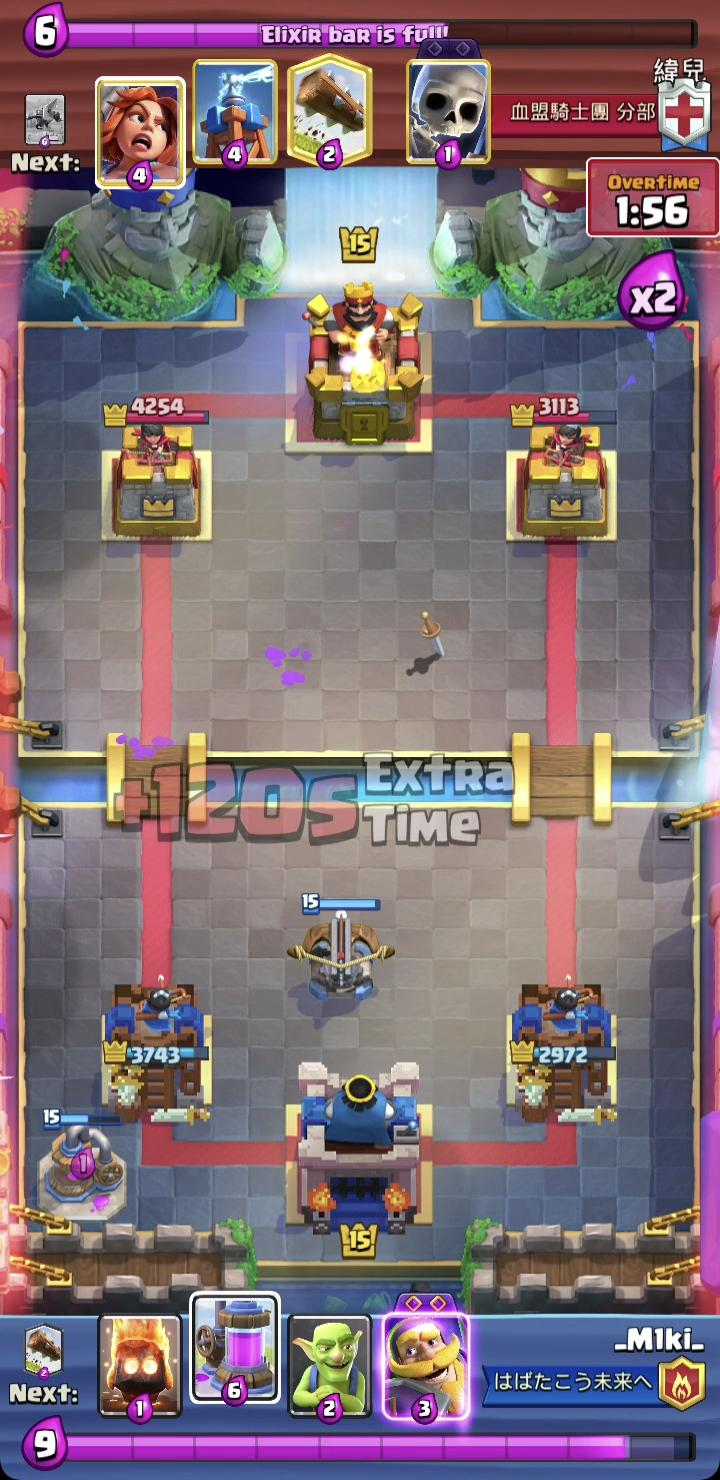ally_elixirpump: (35, 1108, 129, 1223)
ally_xbow: (288, 891, 397, 1000)
enemy_fireball: (337, 327, 392, 396)
